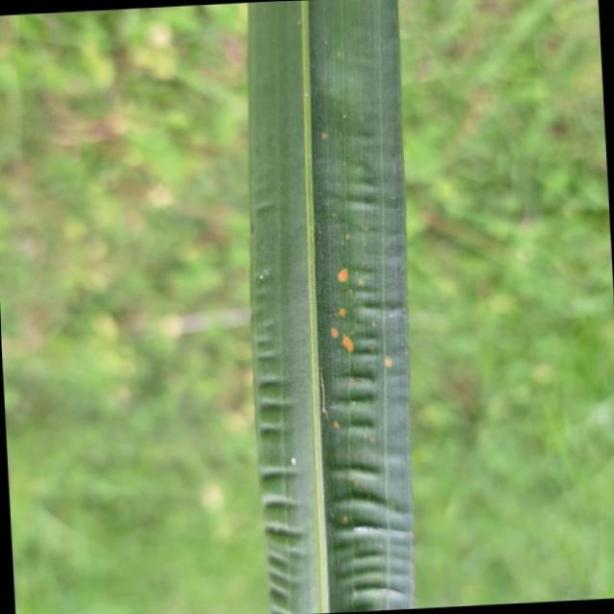Boron: (240, 3, 412, 614)
